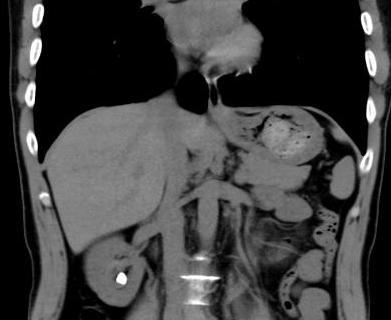Tas_Var: (114, 271, 128, 286)
